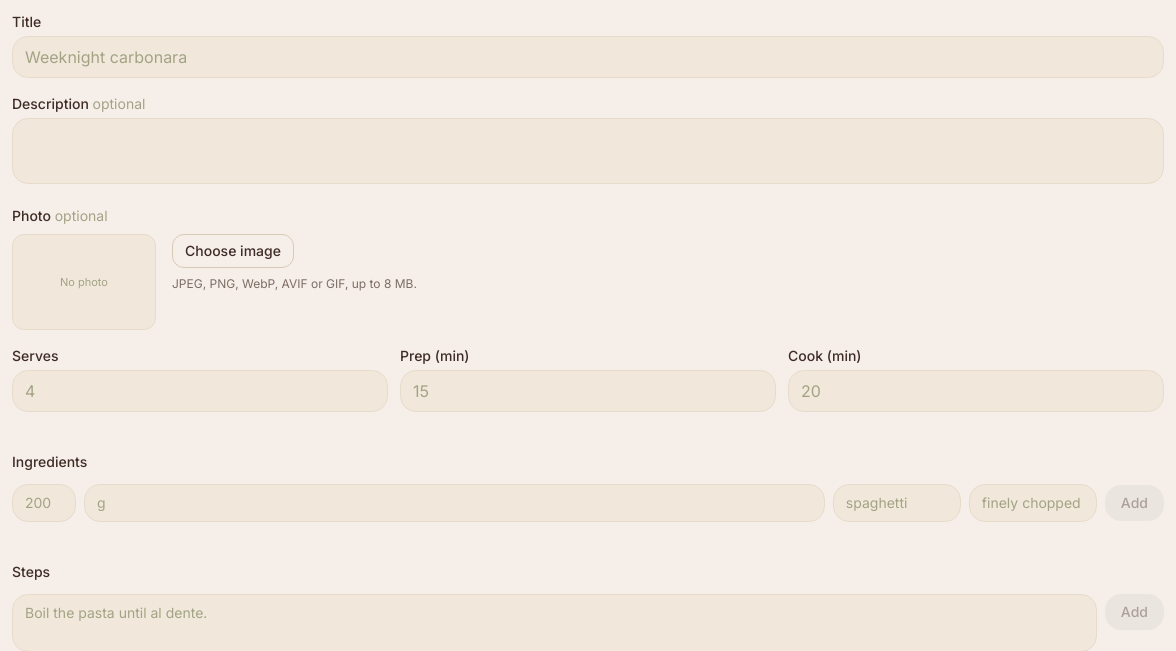
RecipeForm — editing committed rows › saves an edit and returns to the text view
Type "spagetti" into the field named "Ingredient" at (897, 503), box [833,484,961,522]
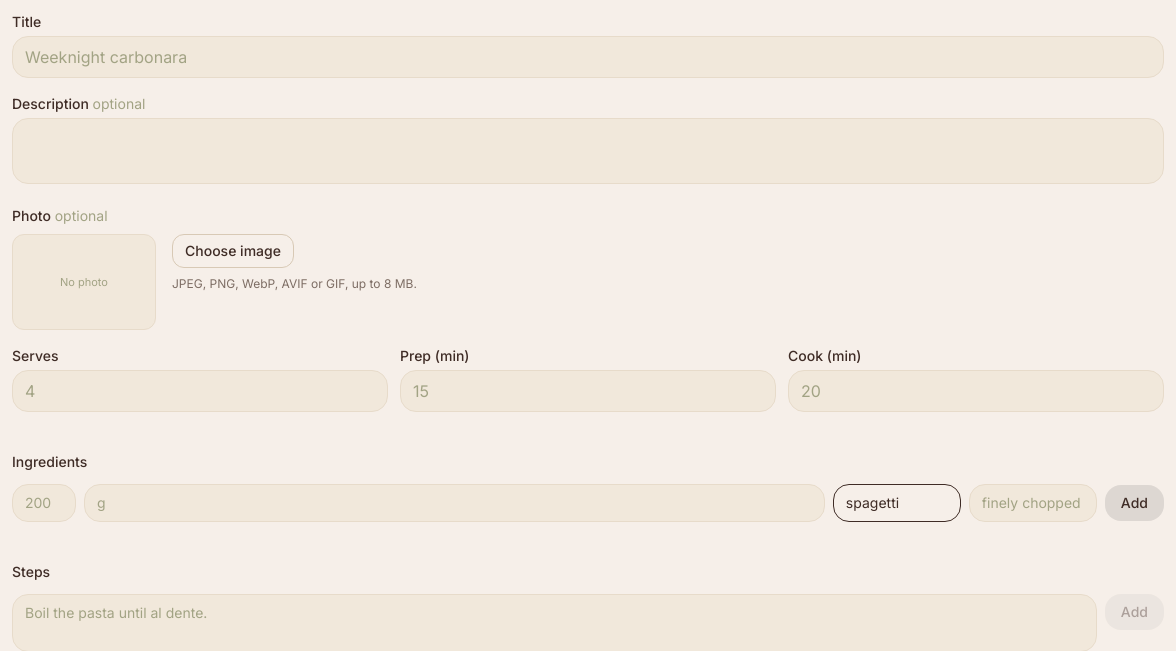
Click the 1st button "Add" at (1134, 503), box [1105,485,1164,521]
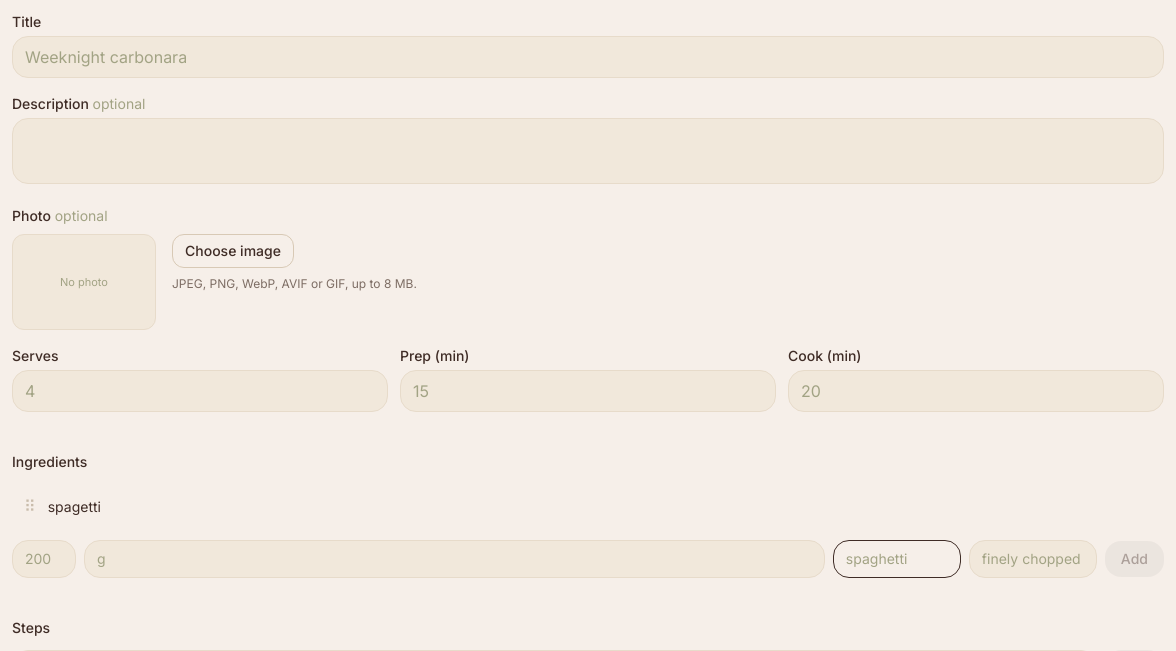
Click the button "spagetti" at (74, 506), box [48,494,1087,518]
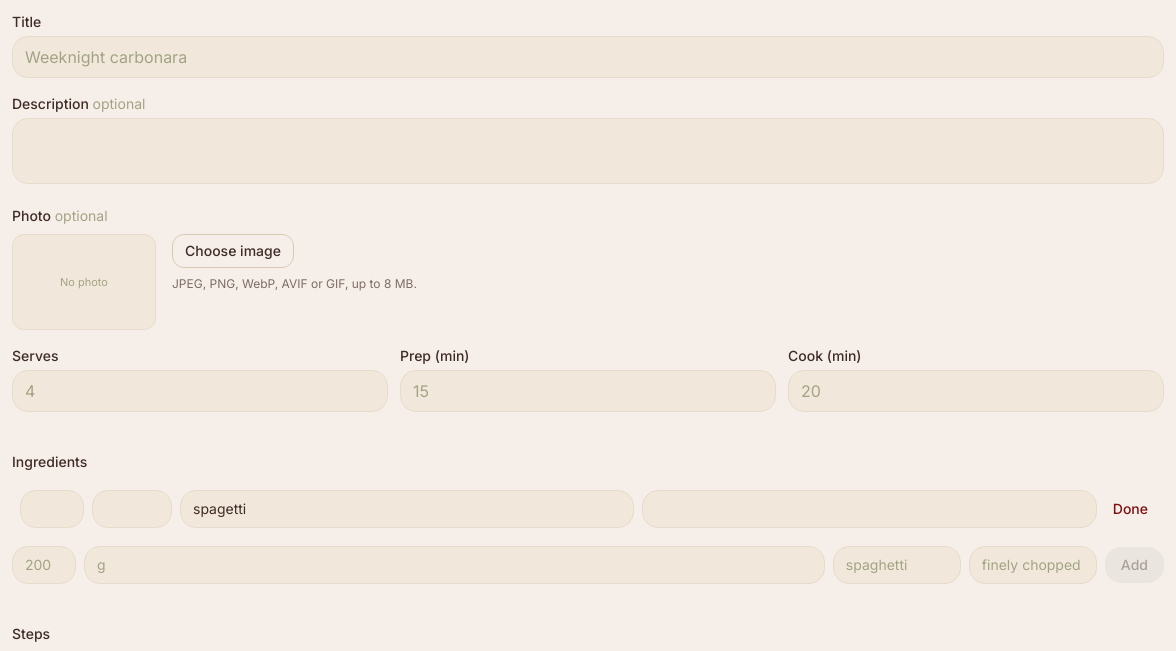
Replace the text in the field named "Edit ingredient" with "spaghetti" at (407, 509), box [180,490,634,528]
Then press Enter
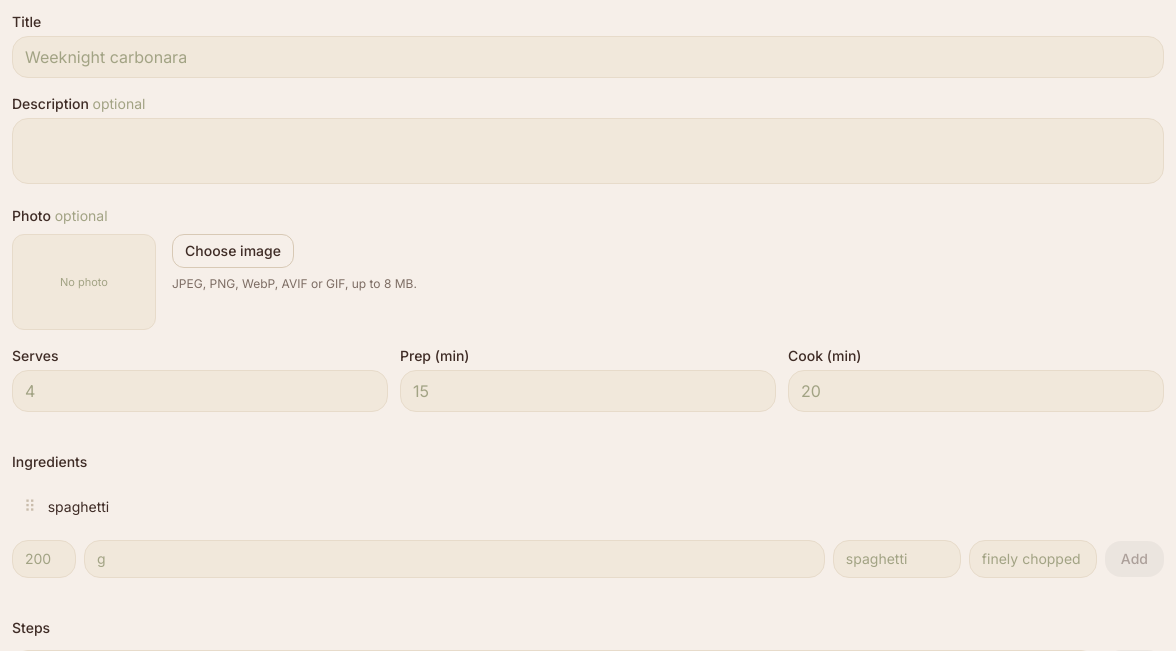
Now the text "spaghetti" is shown, box [48,498,109,515]
